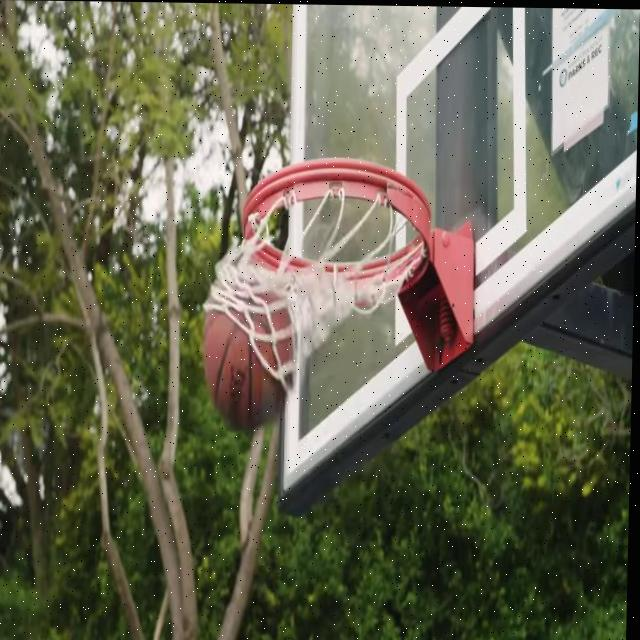Goal: (202, 283, 301, 427)
